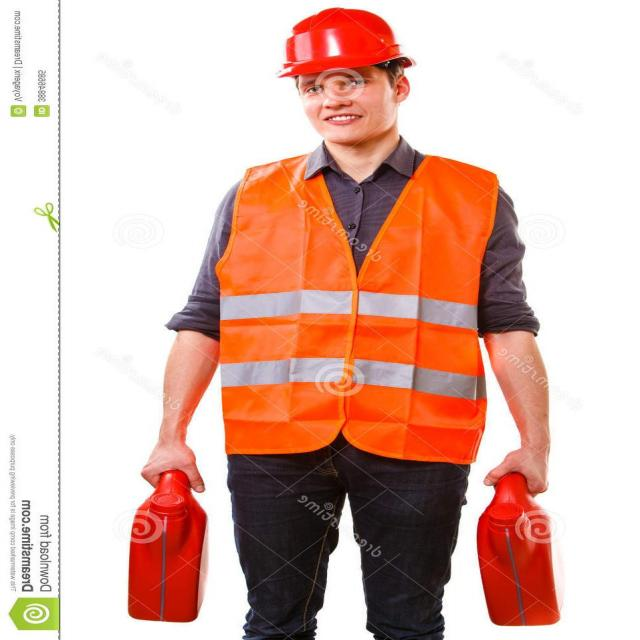Reflective-Jacket: (209, 153, 497, 456)
Safety-Helmet: (274, 5, 413, 80)
